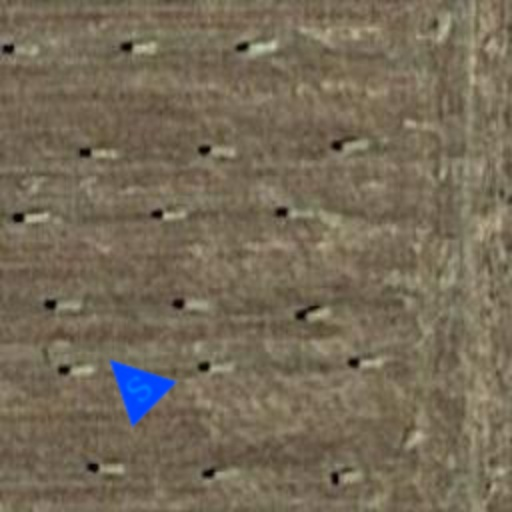triangle: (86, 336, 178, 428)
